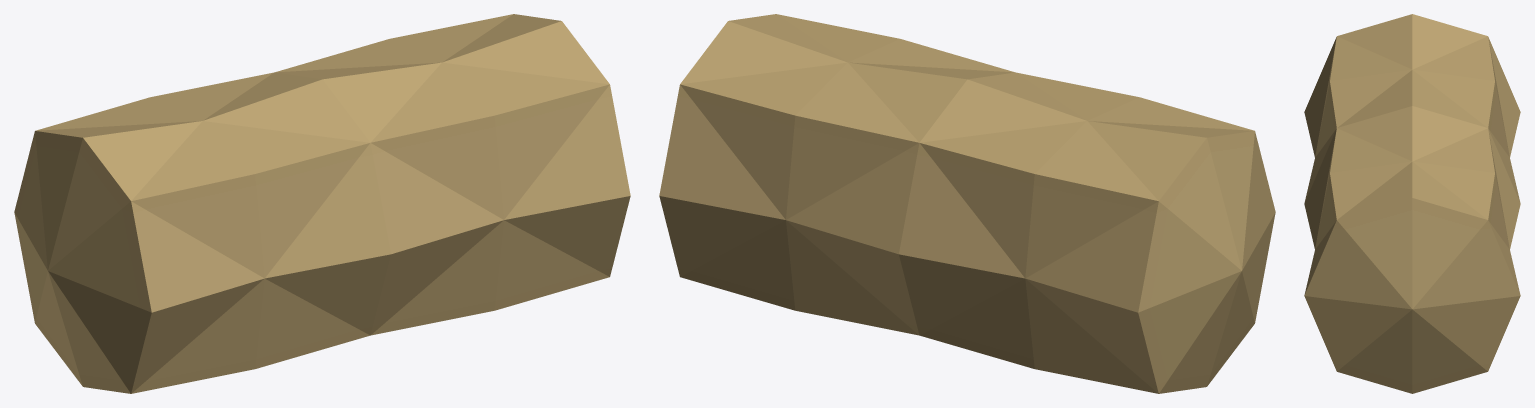
File: Platform_Start.fbx
3 views of the same model, side by side, from view 1: azimuth 30°, elevation 25°; view 2: azimuth 150°, elevation 25°; view 3: azimuth 270°, elevation 25° (orthographic). The views are drawn at different scales.
Parts seen in each view (by area): view 1: Platform; view 2: Platform; view 3: Platform.
Boxes of the visible parts, x1,y1,x2,y2 form: Platform: (14,14,630,393); Platform: (659,14,1275,393); Platform: (1304,14,1520,393).
Bounding box in the file's own units: 461 × 200 × 200.
